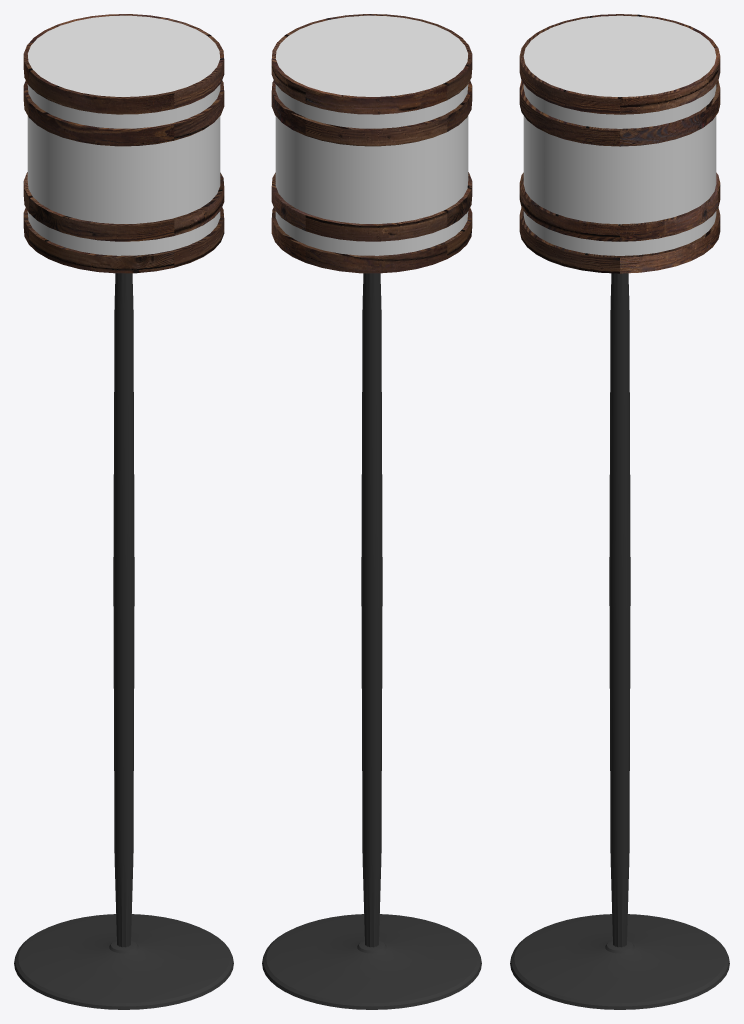
The model's file is Coq_funiture_Room_light01.fbx.
3 renders of one model, left to right at view 1: azimuth 30°, elevation 25°; view 2: azimuth 150°, elevation 25°; view 3: azimuth 270°, elevation 25°, orthographic.
Visible parts, largest first — view 1: room_light; view 2: room_light; view 3: room_light.
Boxes of the visible parts, x1,y1,x2,y2 form: room_light: [14, 14, 233, 1009]; room_light: [262, 14, 481, 1009]; room_light: [510, 14, 729, 1009].
Size of the model in its own units: 79.29 by 362 by 79.29.
